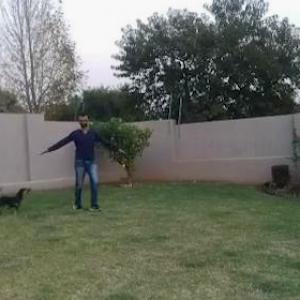land: (46, 107, 129, 205)
